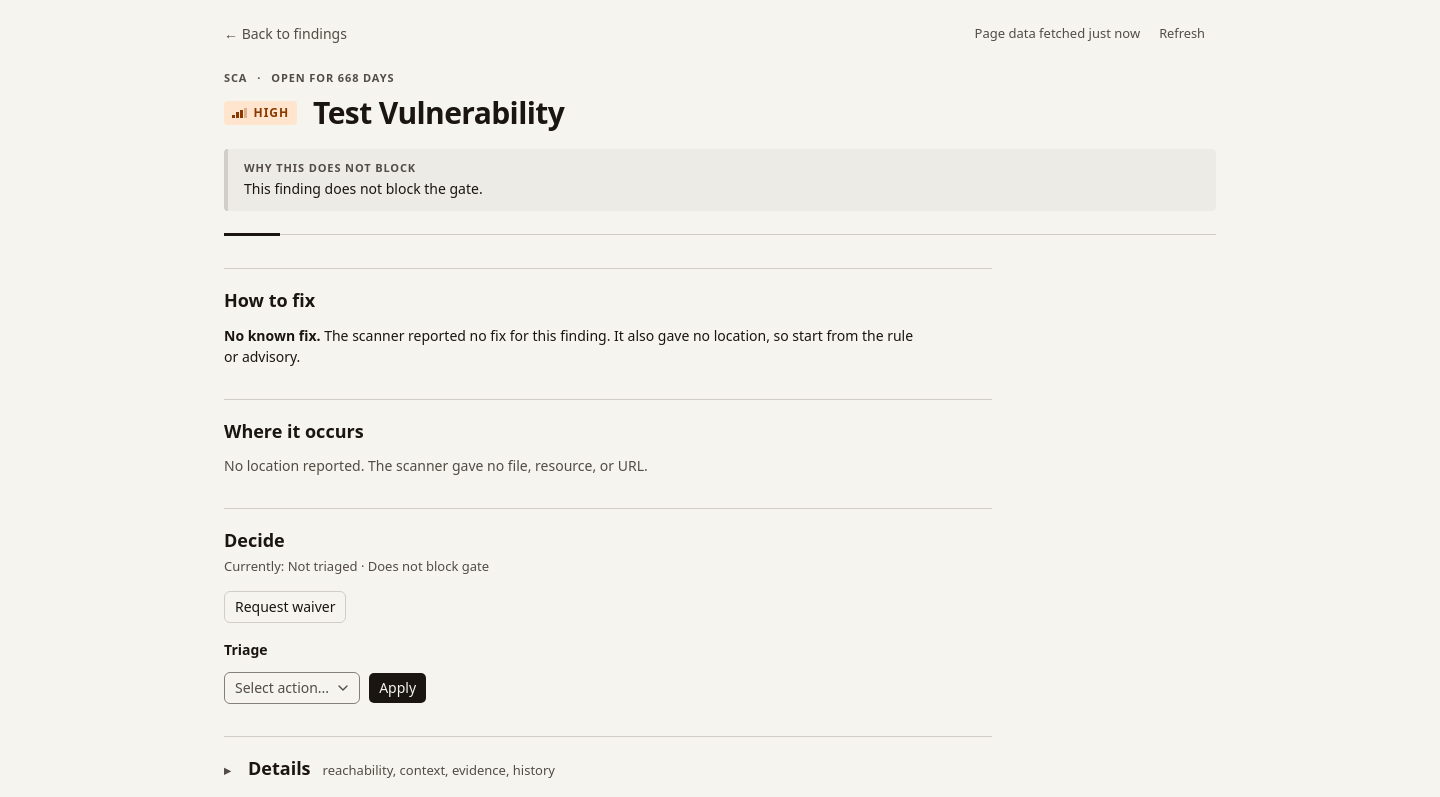
Test: FindingDetail reachability rendering › keeps short evidence inline untruncated
The image size is (1440, 797).
Check: the heading "Test Vulnerability" is shown, box [313,96,564,129]
Click the button "▸ Details reachability, context, evidence, history" at [279, 768], box [224,753,992,785]
(page scrolled)
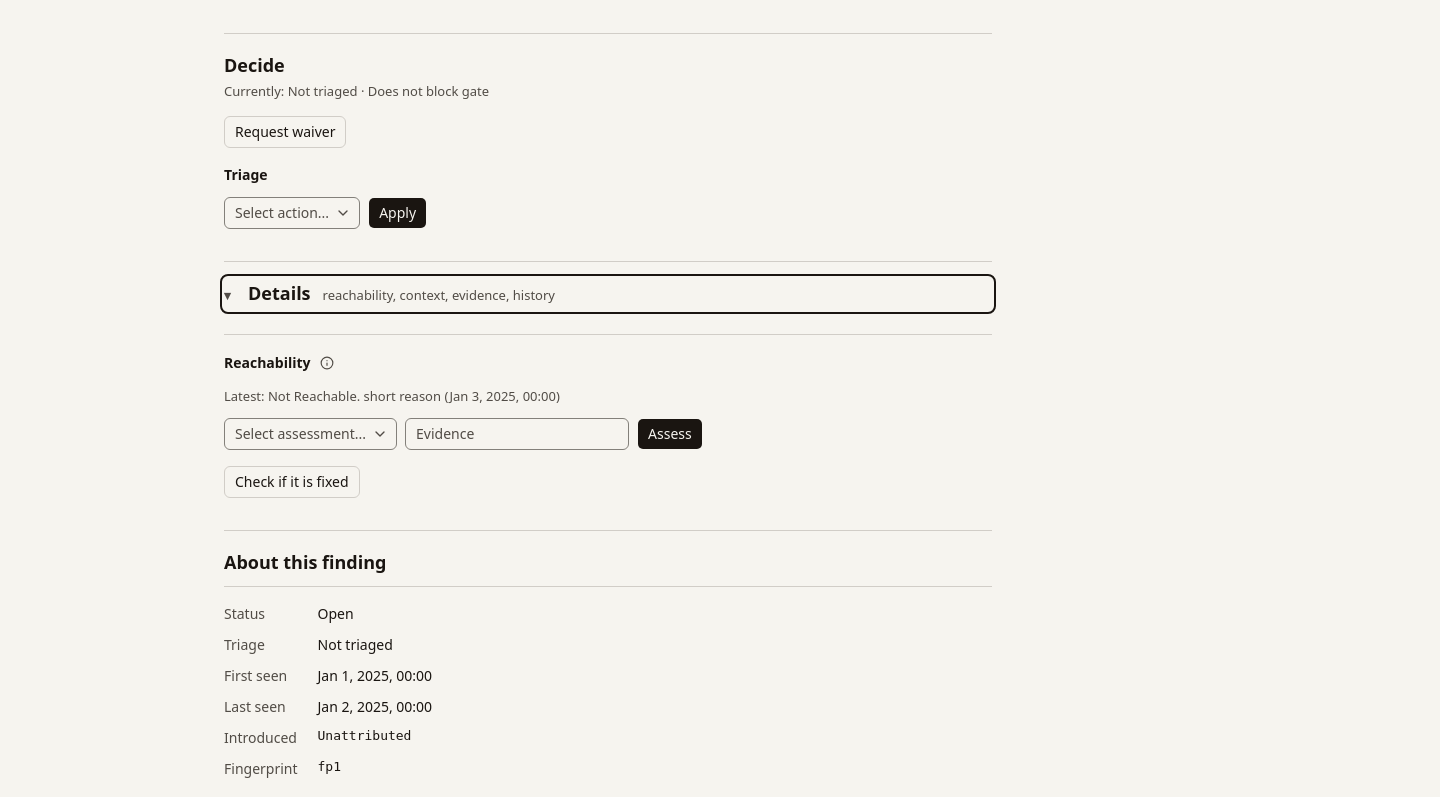
Check: the element showing "Latest: Not Reachable. short reason (Jan 3, 2025, 00:00)" is shown, box [224,387,560,405]
